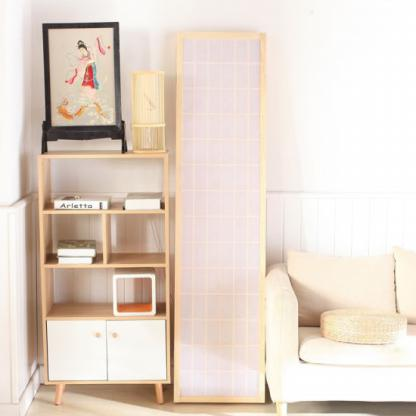lamp: (36, 148, 173, 408)
